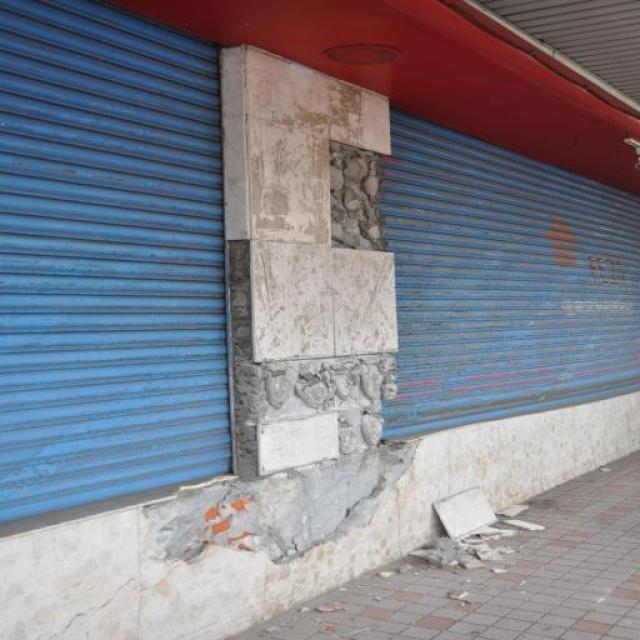D10: (142, 240, 411, 564), (329, 141, 385, 251)
